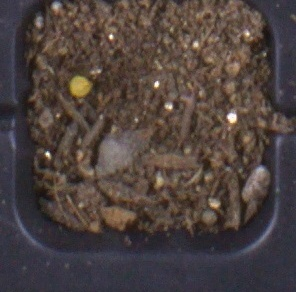chilli seed: (68, 74, 93, 98)
